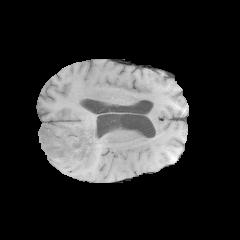glioma: (38, 124, 100, 170)
